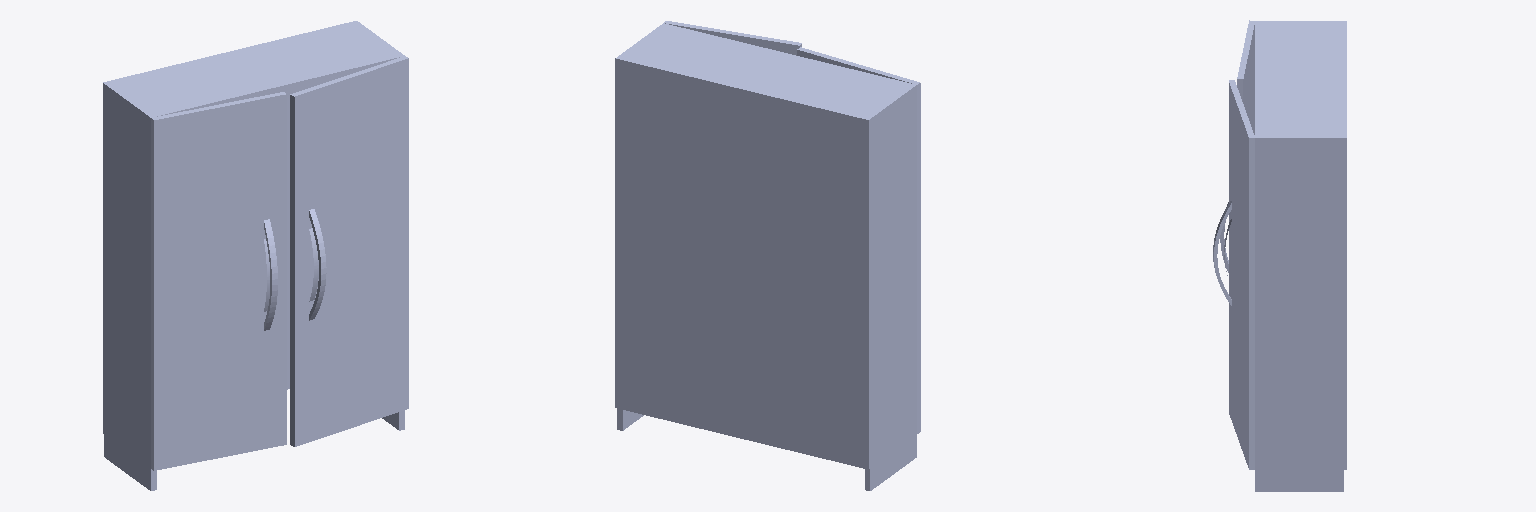
robot.urdf — cabinet:
<robot
  name="cabinet">
  <link
    name="cabinet">
    <inertial>
      <origin
        xyz="-0.18157 -0.17067 0.58658"
        rpy="0 0 0" />
      <mass
        value="47.563" />
      <inertia
        ixx="3.78861223116977"
        ixy="0.0457021709732629"
        ixz="0.0529331803110086"
        iyy="8.20155116498925"
        iyz="-0.0695320827136922"
        izz="5.52973545440082" />
    </inertial>
    <visual>
      <origin
        xyz="0 0 0"
        rpy="0 0 0" />
      <geometry>
        <mesh
          filename="package://cabinet/meshes/cabinet.dae" />
      </geometry>
      <material
        name="">
        <color
          rgba="0.79216 0.81961 0.93333 1" />
      </material>
    </visual>
    <collision>
      <origin
        xyz="0 0 0"
        rpy="0 0 0" />
      <geometry>
        <mesh
          filename="package://cabinet/meshes/cabinet.dae" />
      </geometry>
    </collision>
  </link>
</robot>

--- What the picture shows (computed from the rendered views, not written in the file) ---
3 views of the same robot in one strip: view 1: azimuth 30°, elevation 25°; view 2: azimuth 150°, elevation 25°; view 3: azimuth 270°, elevation 25° (orthographic).
Model cabinet with 1 links and 0 joints (none), rooted at cabinet, posed every joint at zero.
Links seen in each view (by area): view 1: cabinet; view 2: cabinet; view 3: cabinet.
Boxes of the visible links, box(x1,y1,x2,y2) form: cabinet: box(103, 21, 408, 490); cabinet: box(615, 21, 920, 490); cabinet: box(1213, 20, 1346, 491).
Size in the robot's own frame: 0.7902 by 0.3792 by 1.1 metres.
Meshes: 1 distinct files referenced, 1 mesh visuals loaded (1 Collada DAE).